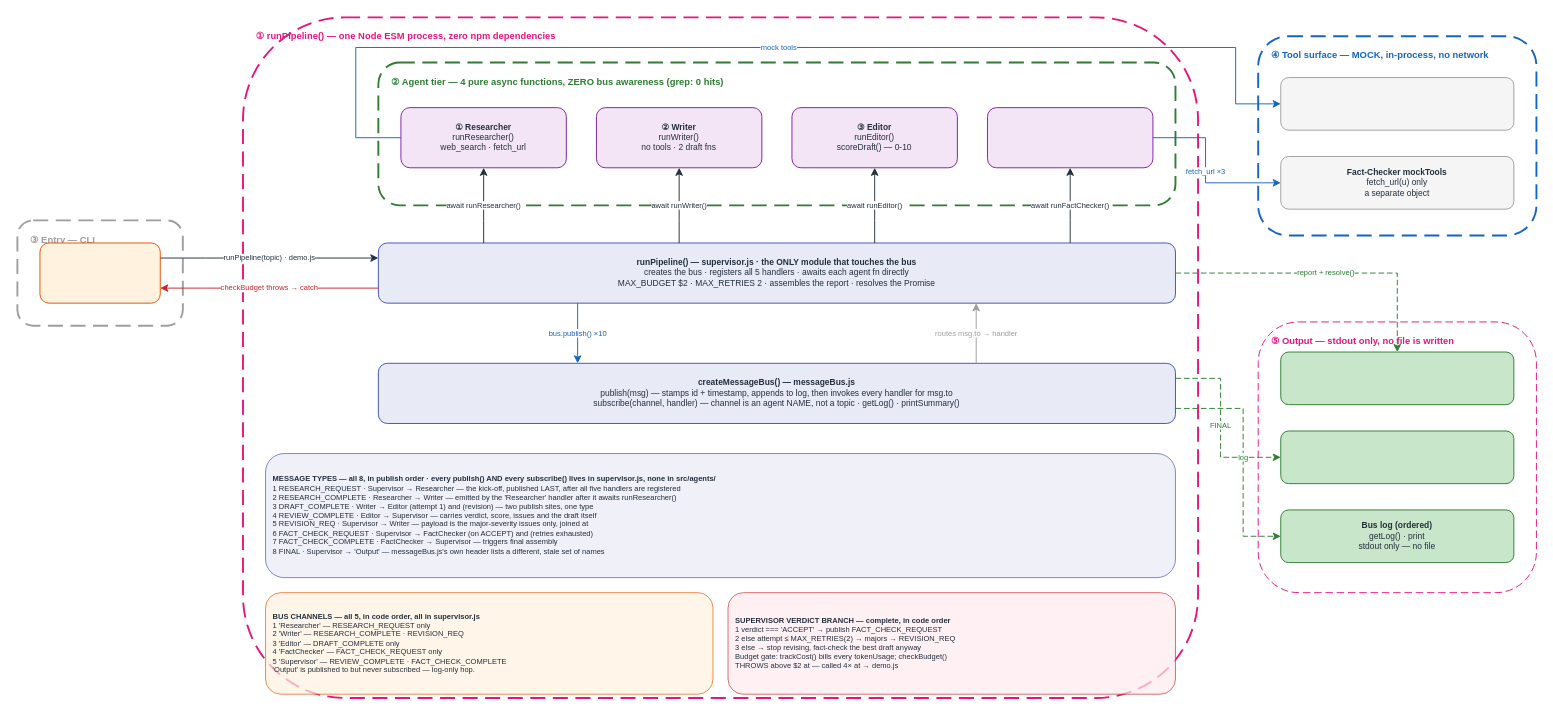
Some shapes in this 1553 by 714 pixel diagram are drawn without their labels. The box of each missing label's shape, as (x1, y1, x2, y2) in pixels:
demo.js CLI · argv[2] main(): (39, 242, 160, 303)
FINAL → to: 'Output' supervisor.js no subscriber — log only: (1280, 430, 1514, 484)
Pipeline report supervisor.js resolve() → demo.js: (1280, 351, 1514, 405)
Researcher mockTools web_search(q) — 3 hits fetch_url(u) — canned: (1280, 77, 1514, 130)
④ Fact-Checker runFactChecker() fetch_url only: (987, 107, 1153, 168)
